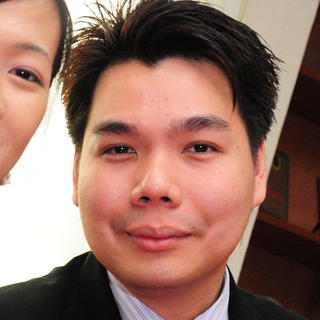eye: (177, 136, 225, 162), (97, 139, 142, 163), (6, 63, 39, 86)
